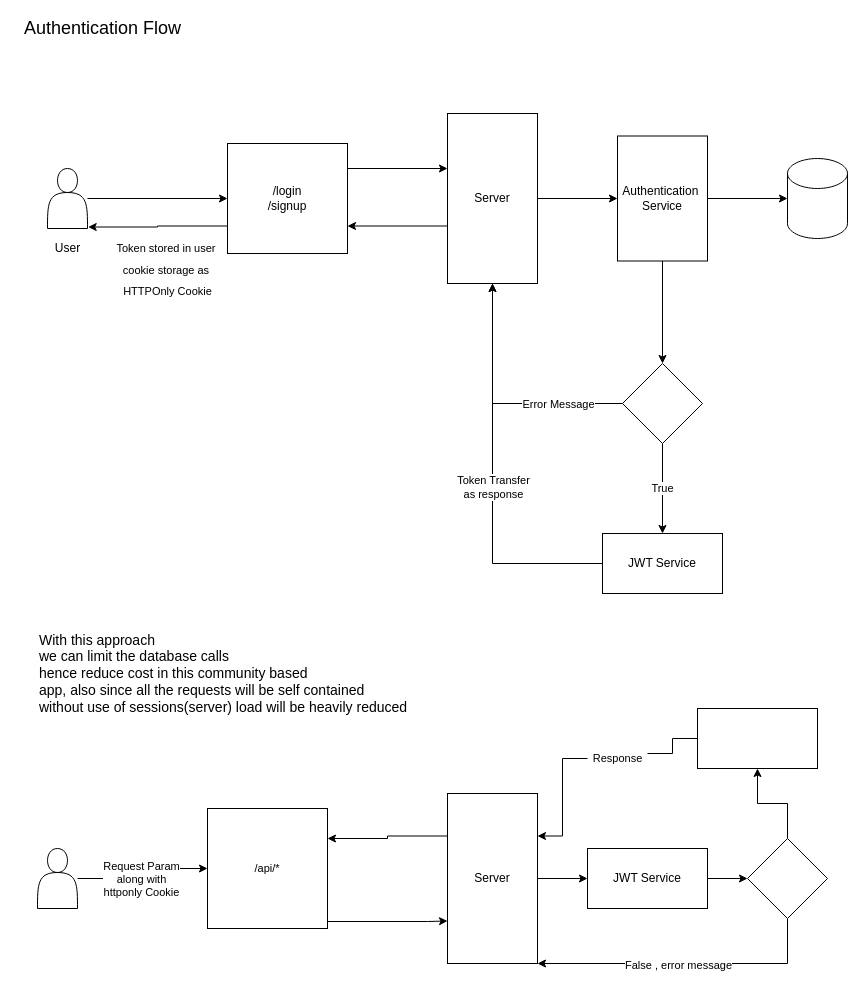
Some shapes in this 865 by 989 pixel diagram are drawn without their labels. The box of each missing label's shape, as (x1, y1, x2, y2) in pixels:
APi reolve via respective service: (696, 708, 818, 768)
DB: (786, 158, 848, 238)
Success?: (622, 362, 702, 444)
Valid: (746, 838, 828, 918)
